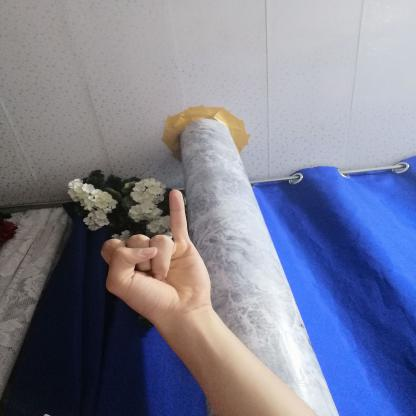MEEM: (84, 180, 218, 325)
